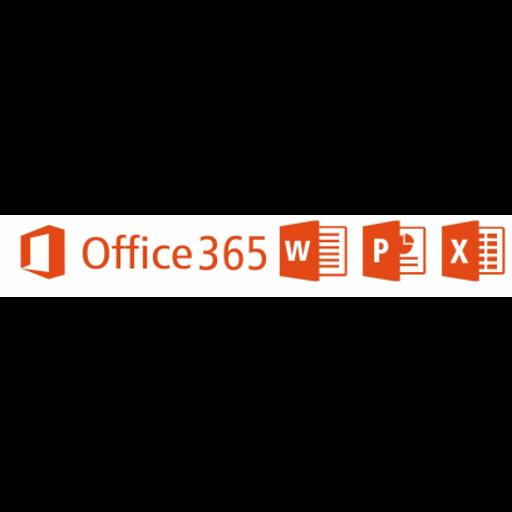Outlook: (0, 215, 512, 297)
